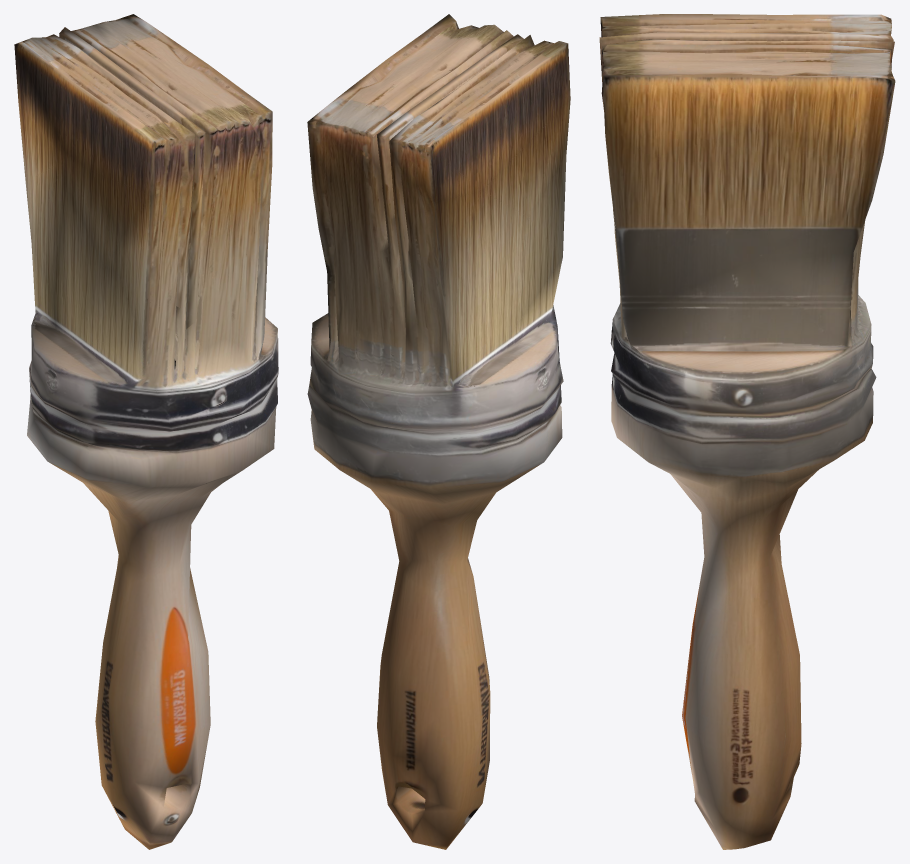
The picture shows the model from 3 angles, left to right: view 1: azimuth 30°, elevation 25°; view 2: azimuth 150°, elevation 25°; view 3: azimuth 270°, elevation 25°; orthographic projection. The views are drawn at different scales.
Parts seen in each view (by area): view 1: Mesh1.0; view 2: Mesh1.0; view 3: Mesh1.0.
Boxes of the visible parts, x1,y1,x2,y2 form: Mesh1.0: [14, 14, 278, 849]; Mesh1.0: [307, 14, 570, 849]; Mesh1.0: [599, 14, 895, 849].
Bounding box in the file's own units: 59.84 × 201 × 67.02.
1 material, 1 textured.
